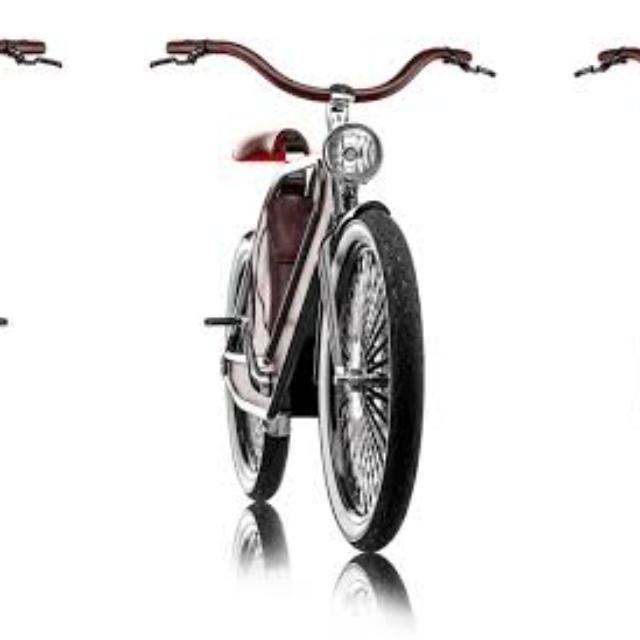obstacle: (138, 24, 500, 592), (0, 24, 72, 592), (569, 24, 640, 592)
